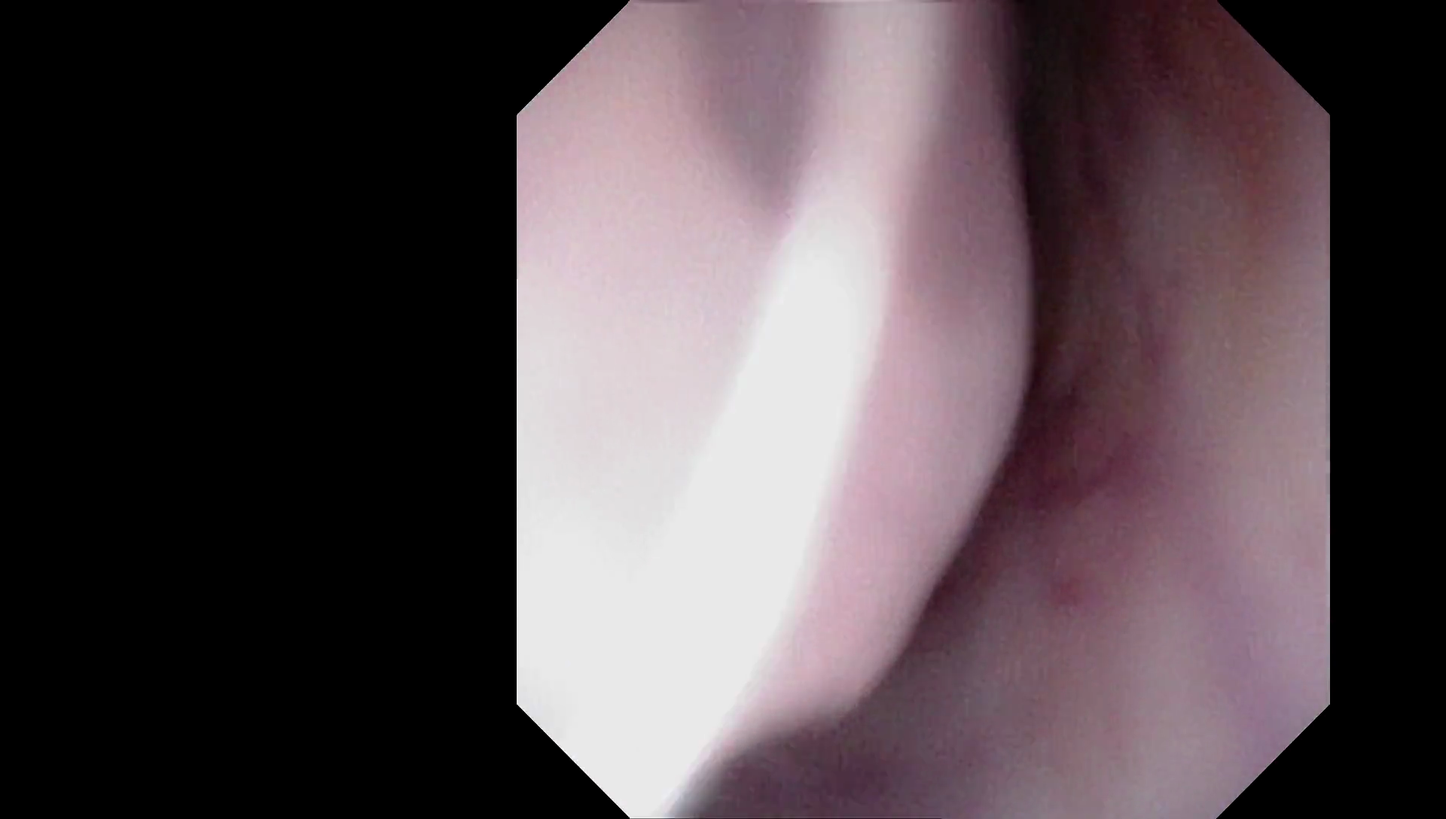close_wall: (526, 93, 993, 708)
next: (952, 0, 1150, 319)
